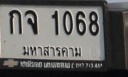txt01: (7, 9, 22, 36)
txt06: (23, 9, 38, 36)
